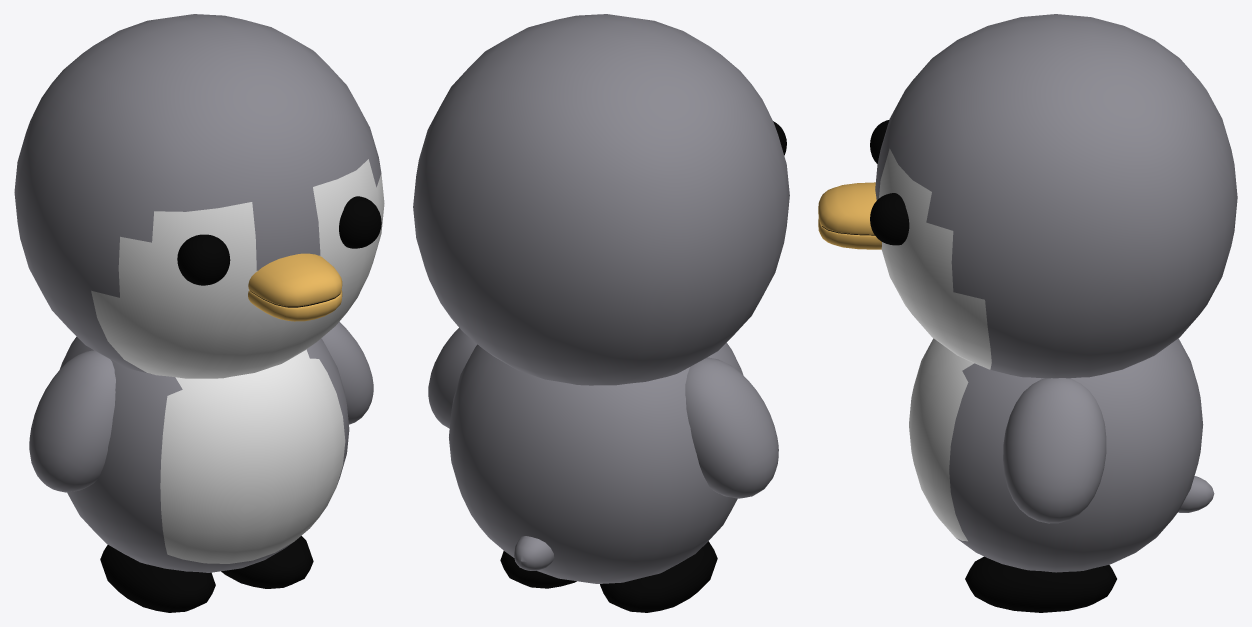
File: penguin.fbx
3 views of the same model, side by side, from view 1: azimuth 30°, elevation 25°; view 2: azimuth 150°, elevation 25°; view 3: azimuth 270°, elevation 25° (orthographic).
Parts seen in each view (by area): view 1: Cube.001, Cube, Cube.002, Cube.003, Cube.004, Cube.005; view 2: Cube.001, Cube, Cube.002, Cube.003, Cube.006; view 3: Cube.001, Cube, Cube.002, Cube.003, Cube.004, Cube.005, Cube.006.
Part boxes in pixels (box(x1,y1,x2,y2)): Cube.001: box(14, 14, 384, 378); Cube: box(60, 336, 349, 572); Cube.002: box(29, 322, 373, 492); Cube.003: box(100, 536, 313, 612); Cube.004: box(248, 253, 342, 321); Cube.005: box(177, 196, 381, 285); Cube.001: box(413, 14, 789, 385); Cube: box(449, 342, 743, 583); Cube.002: box(428, 328, 778, 498); Cube.003: box(500, 541, 717, 612); Cube.006: box(514, 536, 554, 570); Cube.001: box(875, 14, 1237, 378); Cube: box(909, 338, 1203, 572); Cube.002: box(1003, 378, 1106, 523); Cube.003: box(965, 556, 1116, 612); Cube.004: box(818, 182, 881, 249); Cube.005: box(870, 120, 909, 245); Cube.006: box(1178, 476, 1214, 512).
Bounding box in the file's own units: 218 × 345 × 239.
